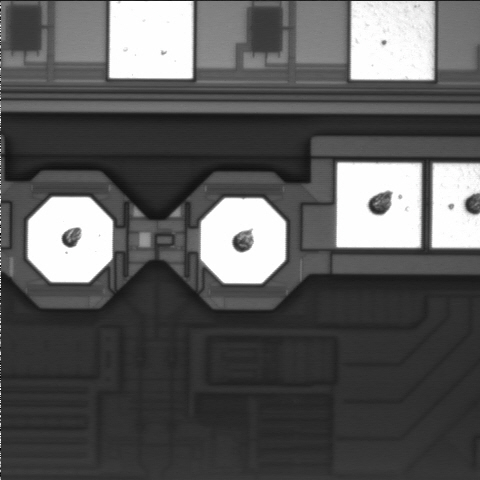pad: (200, 198, 286, 284), (28, 197, 113, 282), (337, 163, 421, 248)
